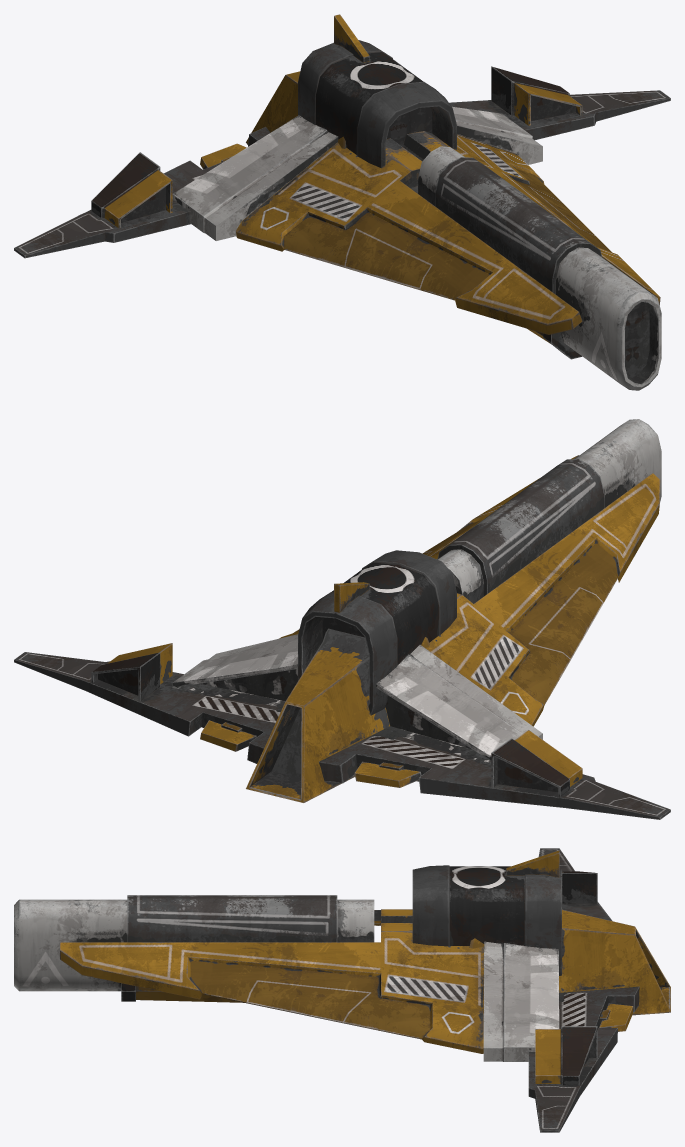
The model's file is phantom.glb.
3 renders of one model, top to bottom at view 1: azimuth 30°, elevation 25°; view 2: azimuth 150°, elevation 25°; view 3: azimuth 270°, elevation 25°, orthographic. The views are drawn at different scales.
Visible parts, largest first — view 1: Omen; view 2: Omen; view 3: Omen.
Part boxes in pixels (box(x1,y1,x2,y2)): Omen: box(14, 14, 670, 390); Omen: box(14, 419, 670, 819); Omen: box(14, 848, 670, 1132).
Size of the model in its own units: 12.78 by 3.14 by 12.58.
Materials: 1 (1 with a texture image).
